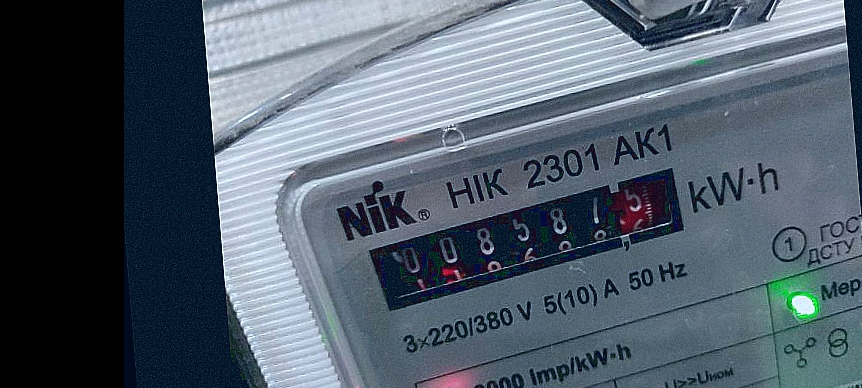0: (435, 230, 463, 266), (397, 241, 426, 275)
5: (509, 211, 535, 244), (621, 180, 646, 213)
6: (629, 215, 648, 233)
7: (583, 192, 608, 228)
8: (473, 223, 500, 257), (546, 202, 571, 237)
screen: (356, 164, 712, 314)
